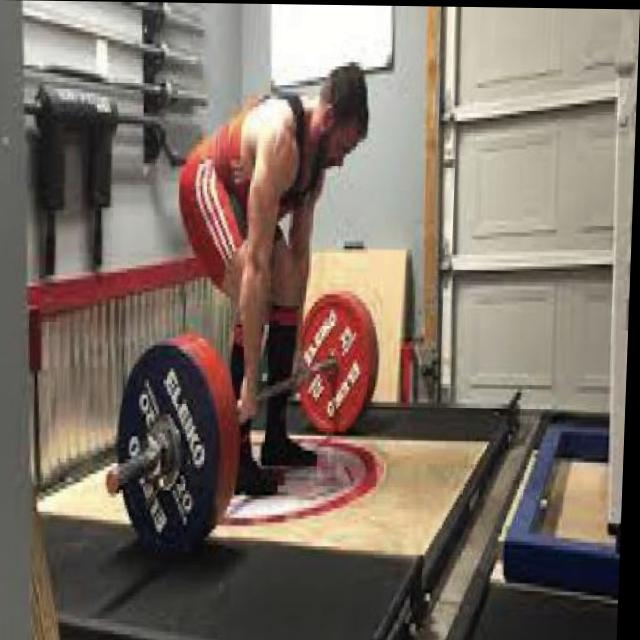barbell: (107, 343, 236, 564)
